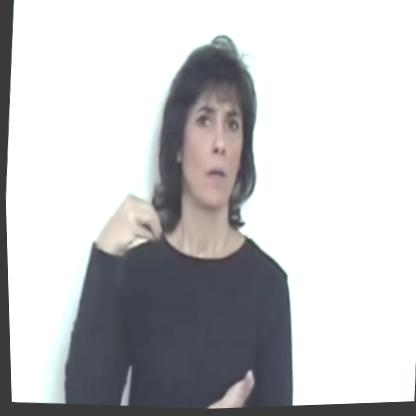Expensive: (79, 178, 264, 414)
